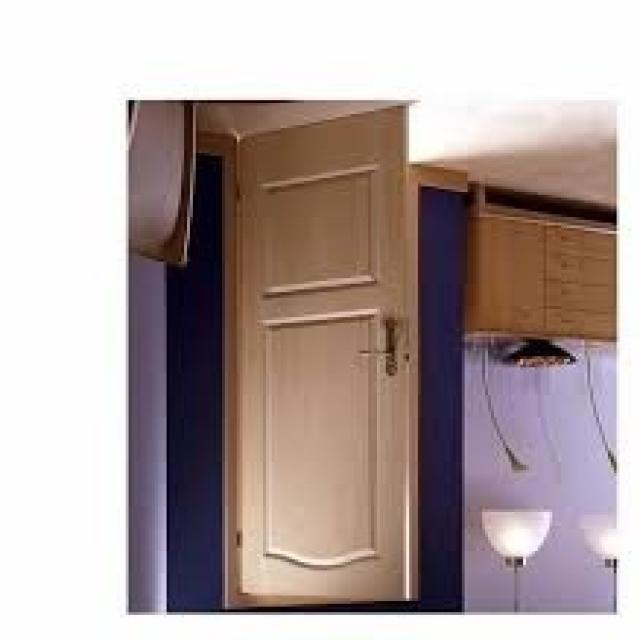door: (228, 104, 421, 606)
